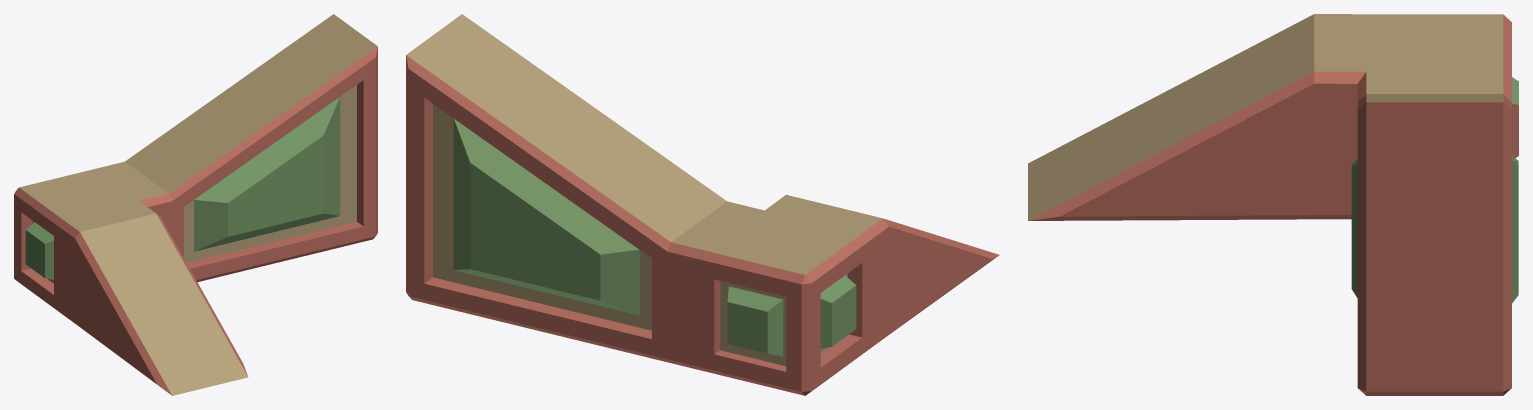
The model's file is Ramp.fbx.
3 views of the same model, side by side, from view 1: azimuth 30°, elevation 25°; view 2: azimuth 150°, elevation 25°; view 3: azimuth 270°, elevation 25° (orthographic). The views are drawn at different scales.
Visible parts, largest first — view 1: Plane.001; view 2: Plane.001; view 3: Plane.001.
Boxes of the visible parts, bbox=[...] form: Plane.001: bbox=[14, 14, 377, 395]; Plane.001: bbox=[406, 14, 999, 395]; Plane.001: bbox=[1028, 14, 1518, 395].
Bounding box in the file's own units: 2618 × 1500 × 2231.
